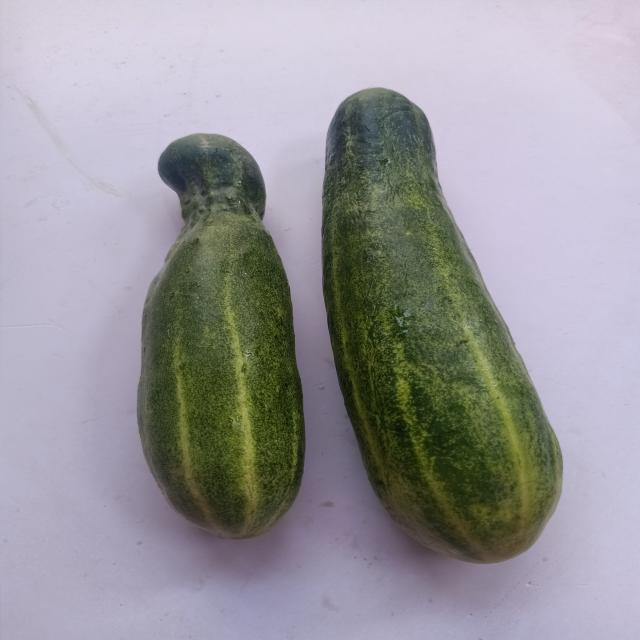Cucumber: (322, 87, 563, 564), (137, 133, 304, 539)
